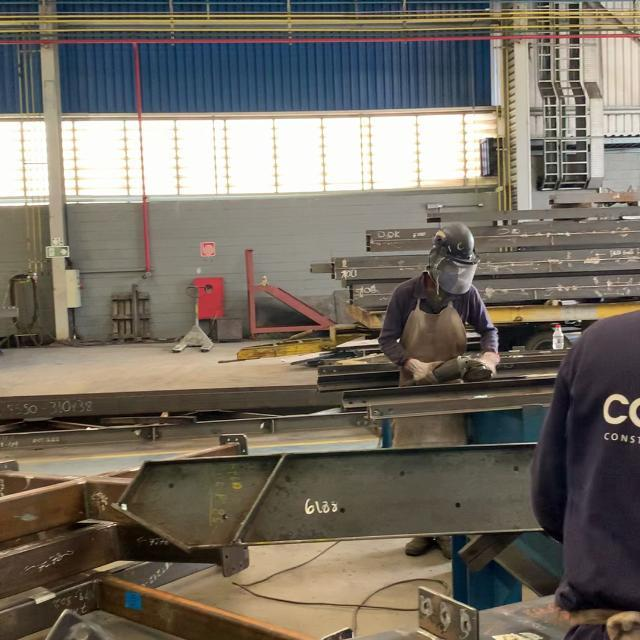face-shield: (428, 255, 482, 294)
glove: (403, 359, 441, 381), (467, 351, 503, 374), (610, 545, 640, 561)
helmet: (433, 223, 477, 258)
person: (379, 221, 500, 376)
safety-shoe: (403, 537, 436, 555)
